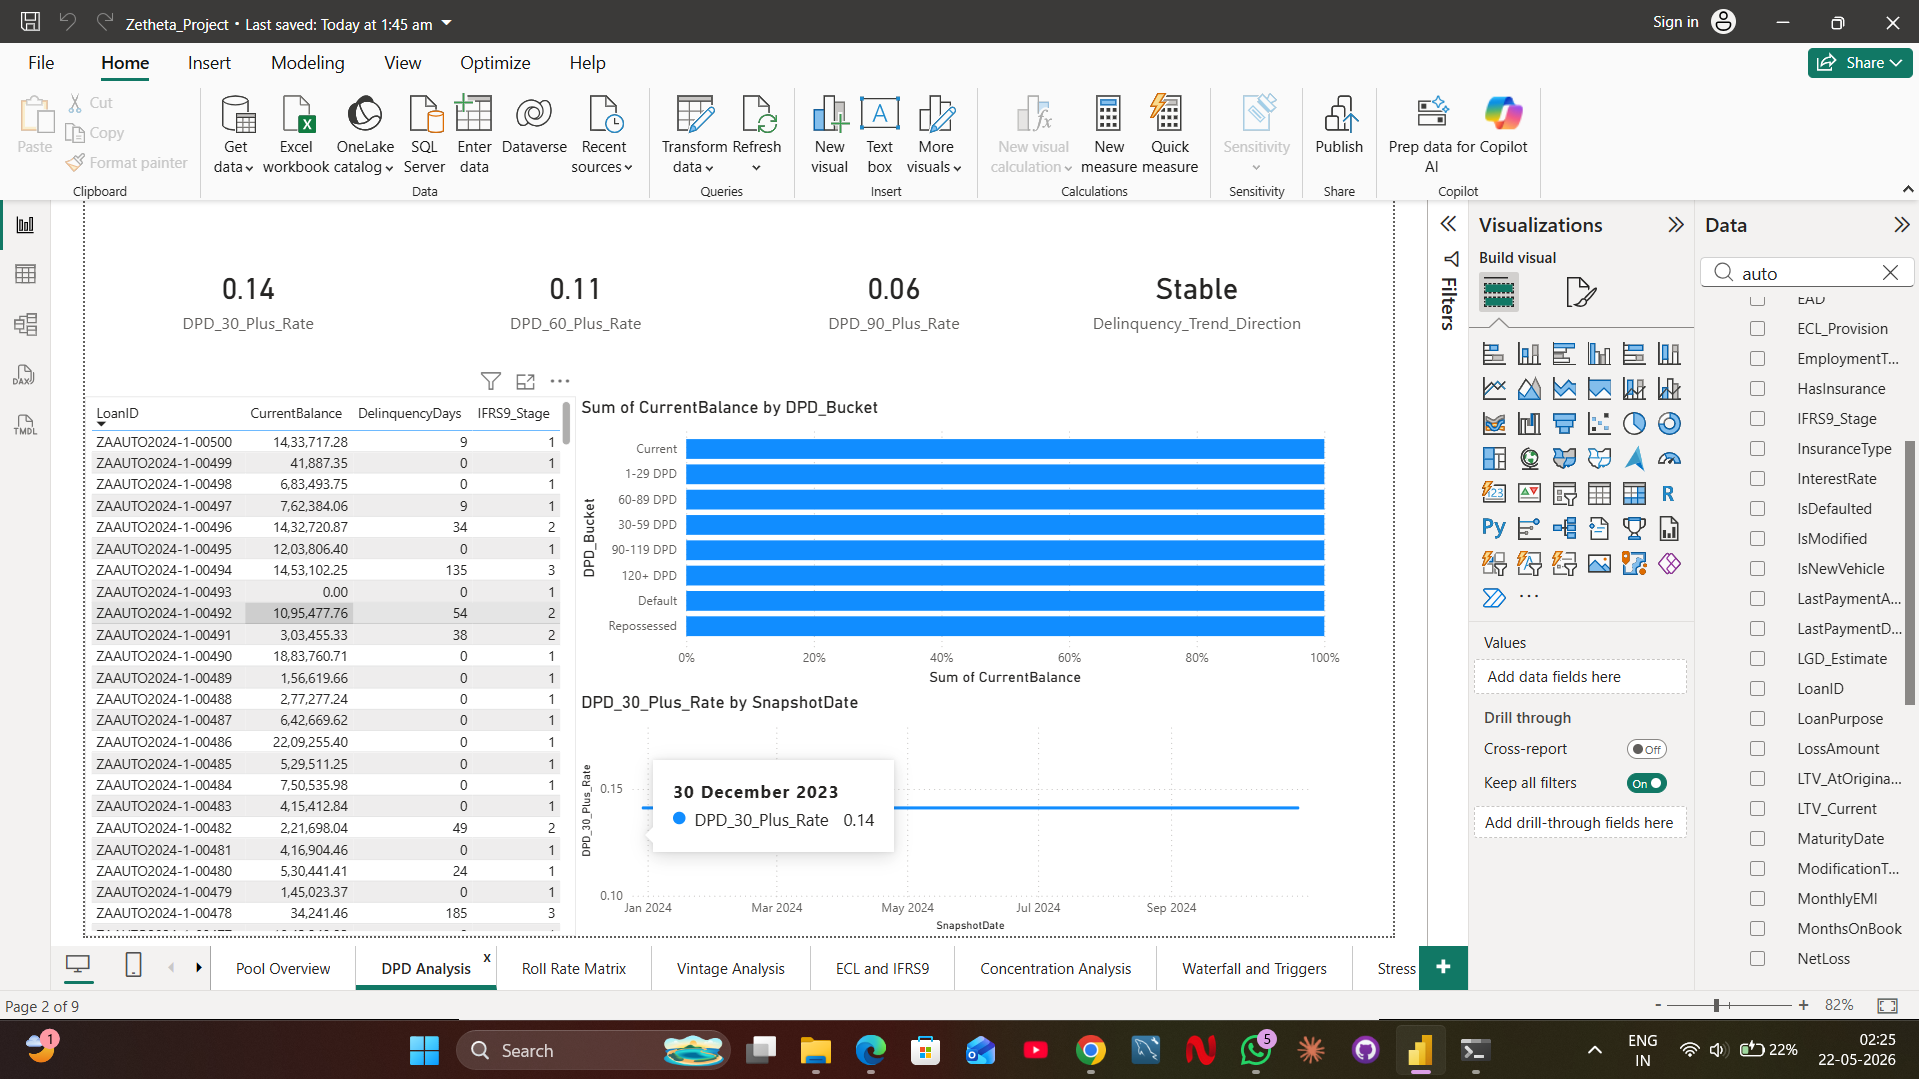

The page's visual inventory and layout, read from the dashboard file:
{"tool":"powerbi","page":{"name":"DPD Analysis","canvas":[1280,720],"ordinal":1},"visuals":[{"type":"card","fields":{"Values":["_Measures.DPD_30_Plus_Rate"]},"box":[0,0,320,192],"z":0},{"type":"card","fields":{"Values":["_Measures.DPD_60_Plus_Rate"]},"box":[320,0,320,192],"z":1000},{"type":"card","fields":{"Values":["_Measures.DPD_90_Plus_Rate"]},"box":[640,0,304,192],"z":2000},{"type":"card","fields":{"Values":["_Measures.Delinquency_Trend_Direction"]},"box":[944,0,288,192],"z":3000},{"type":"hundredPercentStackedBarChart","fields":{"Category":["dpd_snapshot_history.DPD_Bucket"],"Y":["Sum(dpd_snapshot_history.CurrentBalance)"]},"box":[480,192,752,288],"z":4000},{"type":"lineChart","fields":{"Category":["dpd_snapshot_history.SnapshotDate"],"Y":["_Measures.DPD_30_Plus_Rate"]},"box":[480,480,736,240],"z":5000},{"type":"tableEx","fields":{"Values":["auto_loan_scrutinization_data.LoanID","auto_loan_scrutinization_data.CurrentBalance","auto_loan_scrutinization_data.DelinquencyDays","auto_loan_scrutinization_data.IFRS9_Stage"]},"box":[0,192,480,528],"z":6000}]}

Visuals, with their boxes on the page's 1280x720 design canvas (x1, y1, x2, y2). These are canvas units, not pixel positions in the 1919x1079 screenshot, which may show the page scaled, cropped or inside an application window:
card - _Measures.DPD_30_Plus_Rate: detection(0, 0, 320, 192)
card - _Measures.DPD_60_Plus_Rate: detection(320, 0, 640, 192)
card - _Measures.DPD_90_Plus_Rate: detection(640, 0, 944, 192)
card - _Measures.Delinquency_Trend_Direction: detection(944, 0, 1232, 192)
hundredPercentStackedBarChart - dpd_snapshot_history.DPD_Bucket x Sum(dpd_snapshot_history.CurrentBalance): detection(480, 192, 1232, 480)
lineChart - dpd_snapshot_history.SnapshotDate x _Measures.DPD_30_Plus_Rate: detection(480, 480, 1216, 720)
tableEx - auto_loan_scrutinization_data.LoanID x auto_loan_scrutinization_data.CurrentBalance: detection(0, 192, 480, 720)
